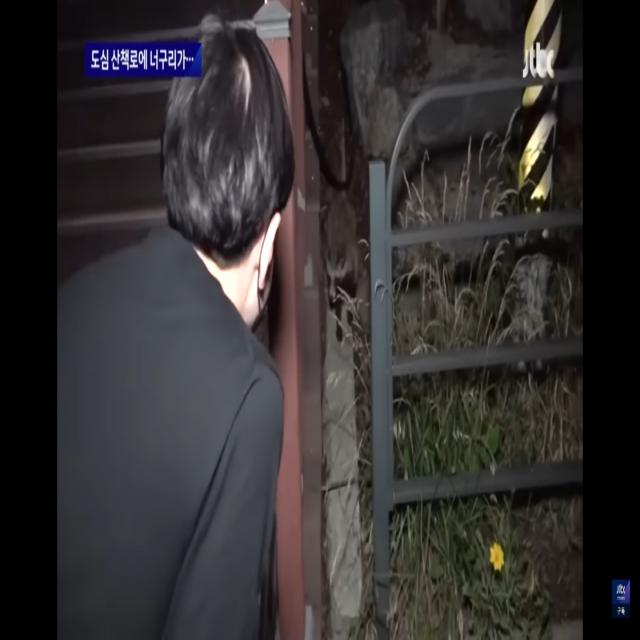racoon: (320, 172, 364, 332)
